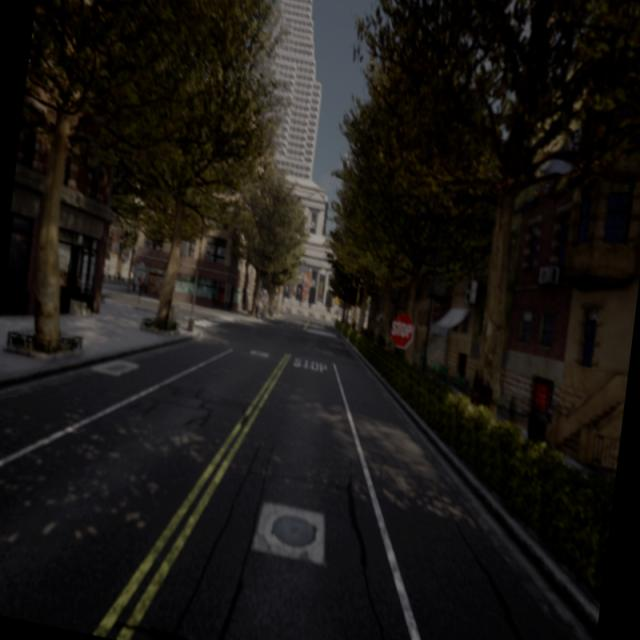stop sign: (387, 308, 416, 352)
